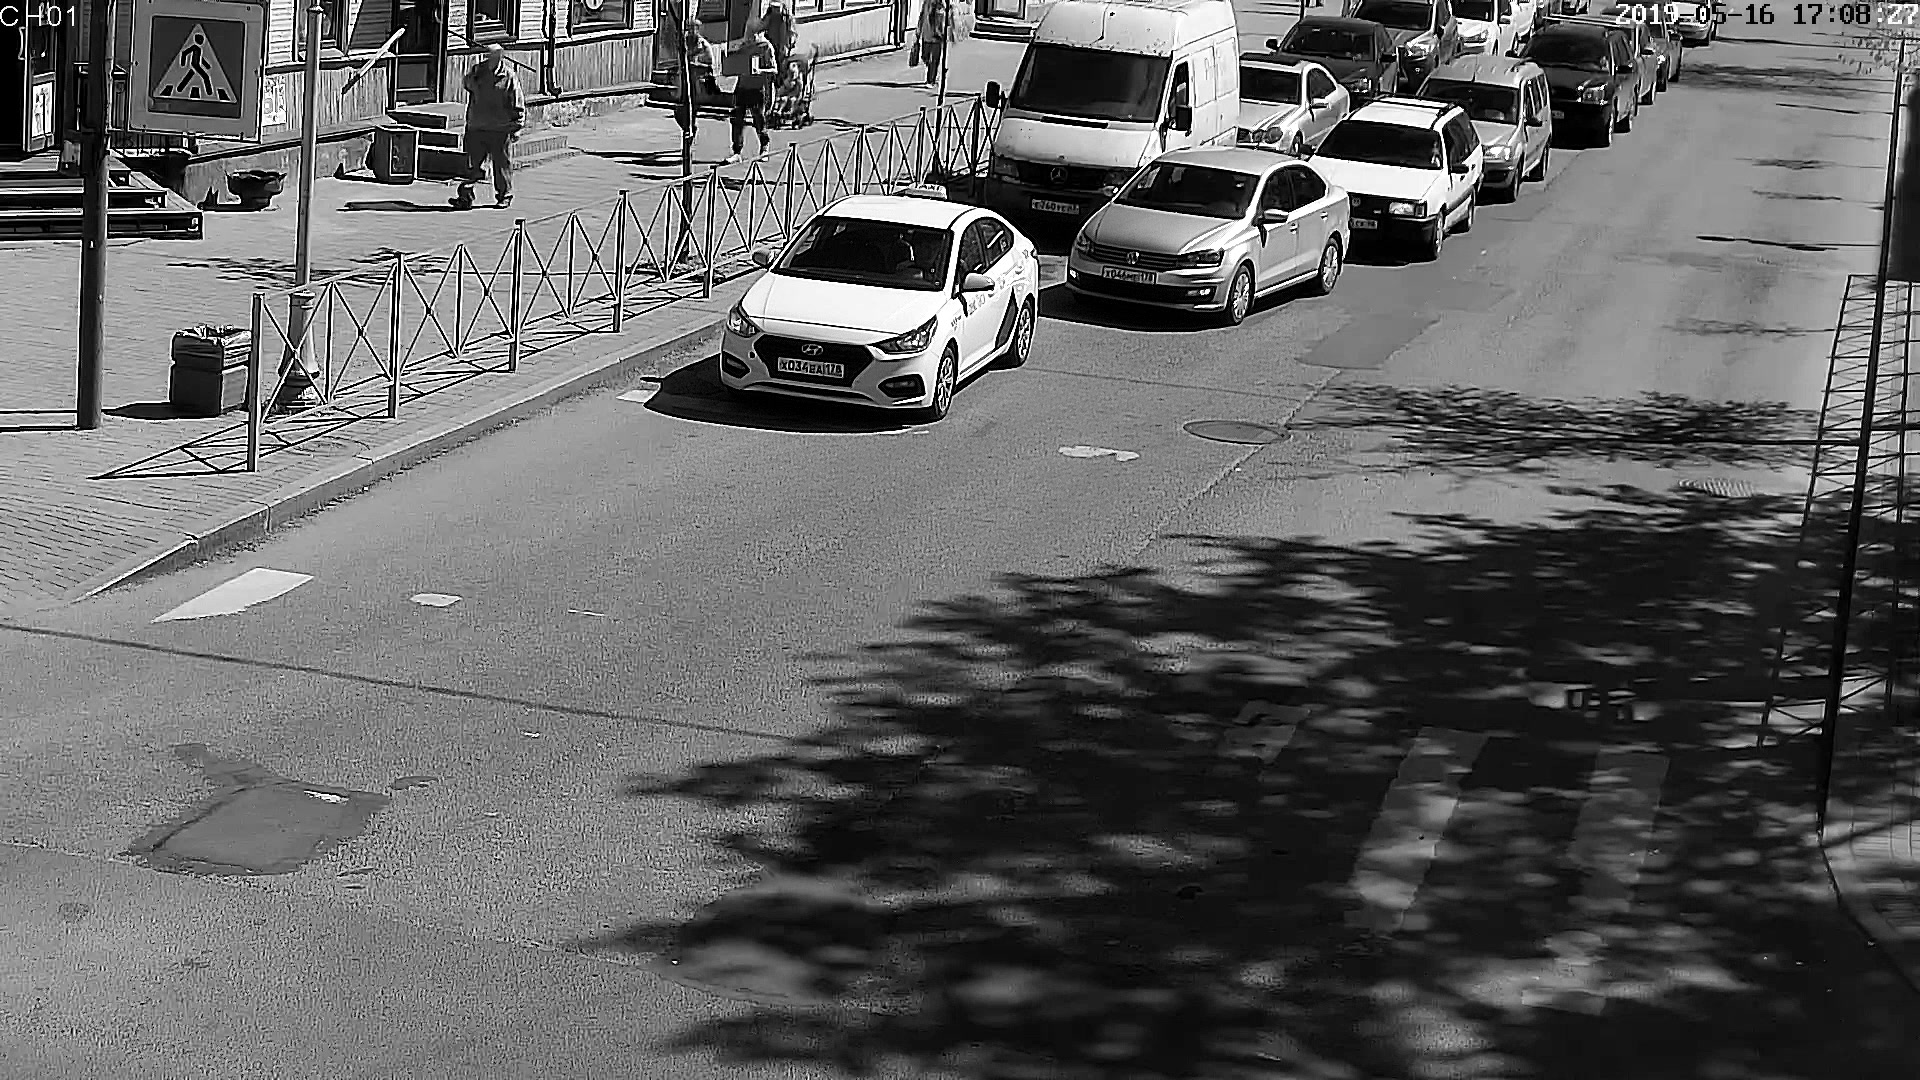car_num: (1299, 36, 1371, 58), (773, 357, 843, 377), (1098, 265, 1155, 287), (1030, 193, 1077, 218), (1349, 214, 1375, 233)
